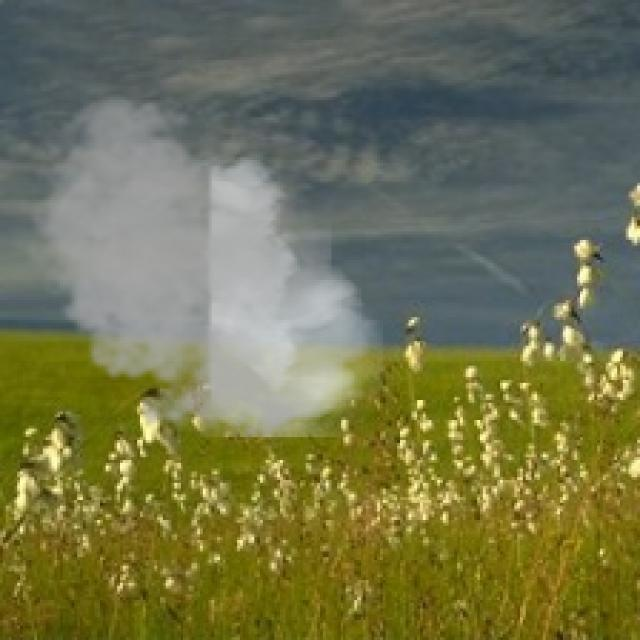Smoke: (17, 89, 383, 452)
